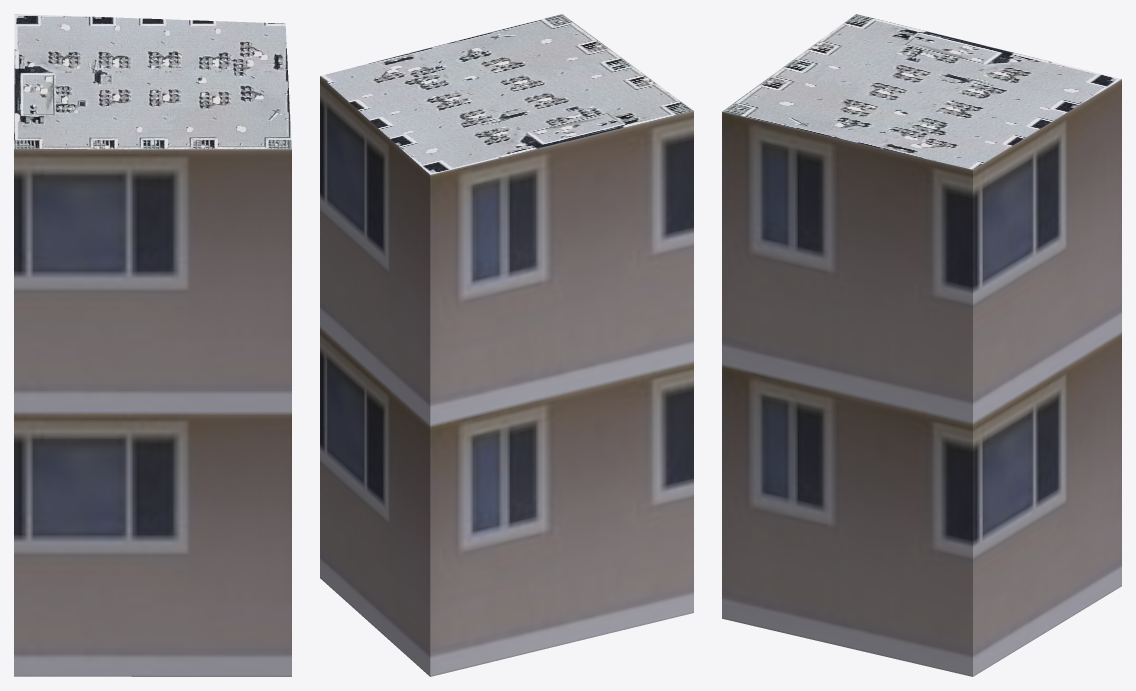
File: ResTex__2380.fbx
The picture shows the model from 3 angles, left to right: view 1: azimuth 30°, elevation 25°; view 2: azimuth 150°, elevation 25°; view 3: azimuth 270°, elevation 25°; orthographic projection. The views are drawn at different scales.
Parts seen in each view (by area): view 1: CityEngineMaterial_21_m, CityEngineMaterial_m; view 2: CityEngineMaterial_21_m, CityEngineMaterial_m; view 3: CityEngineMaterial_21_m, CityEngineMaterial_m.
Part boxes in pixels (bbox=[...]): CityEngineMaterial_21_m: bbox=[14, 149, 291, 676]; CityEngineMaterial_m: bbox=[14, 14, 291, 149]; CityEngineMaterial_21_m: bbox=[320, 76, 693, 676]; CityEngineMaterial_m: bbox=[320, 14, 693, 174]; CityEngineMaterial_21_m: bbox=[722, 79, 1121, 676]; CityEngineMaterial_m: bbox=[722, 14, 1121, 169].
Bounding box in the file's own units: 3.95 × 6 × 4.29.
2 materials, 2 textured.
